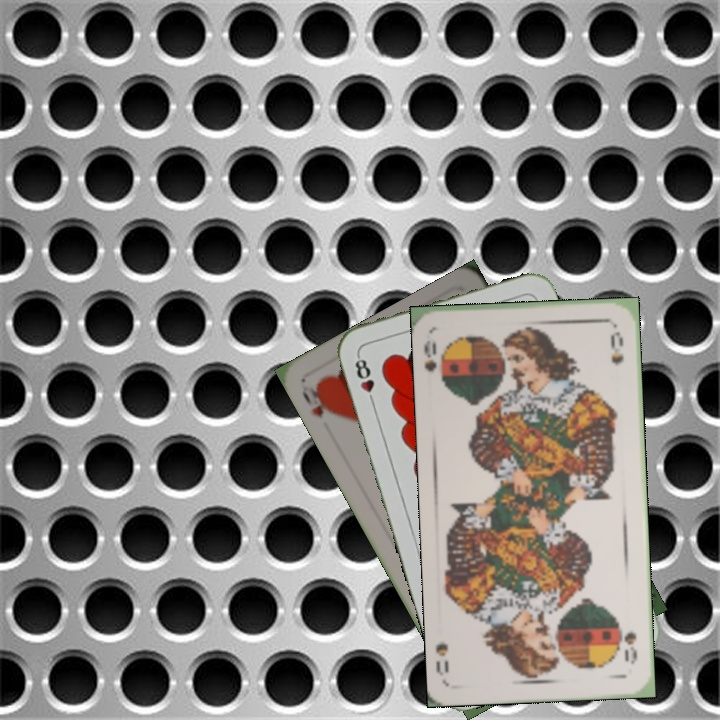H8: (351, 351, 378, 408)
HO: (297, 379, 339, 421)
SO: (617, 624, 640, 667), (420, 336, 440, 374)
